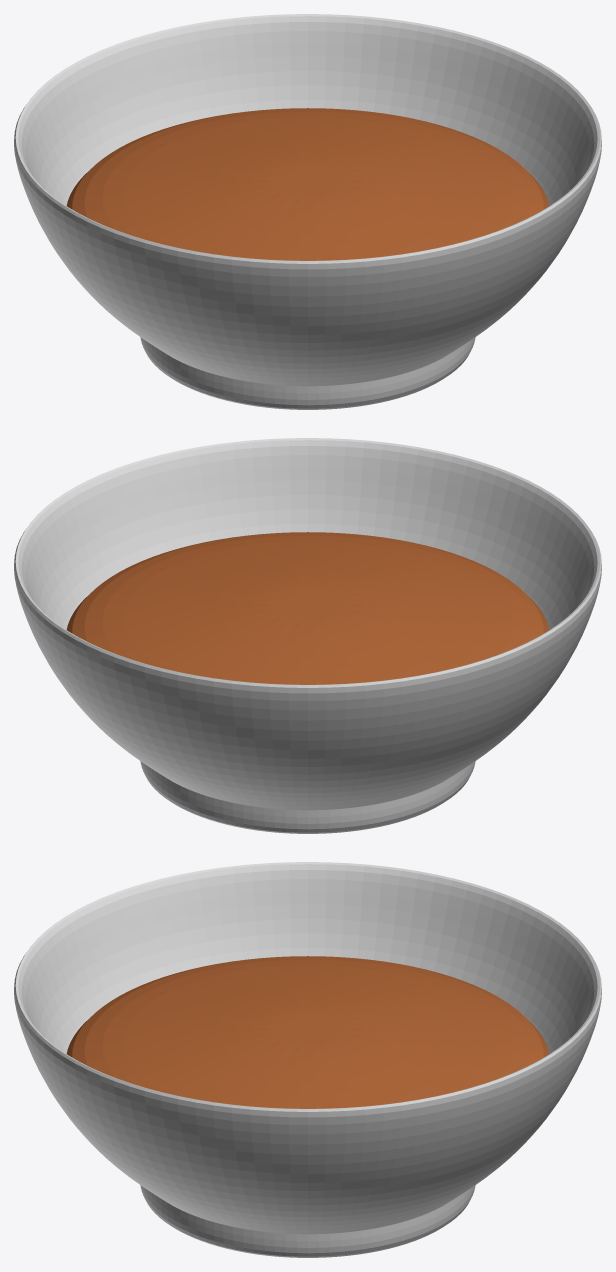
File: miso.fbx
3 renders of one model, top to bottom at view 1: azimuth 30°, elevation 25°; view 2: azimuth 150°, elevation 25°; view 3: azimuth 270°, elevation 25°, orthographic.
Parts seen in each view (by area): view 1: 구체.001; view 2: 구체.001; view 3: 구체.001.
Boxes of the visible parts, x1=… form: 구체.001: x1=14, y1=14, x2=601, y2=409; 구체.001: x1=14, y1=438, x2=601, y2=833; 구체.001: x1=14, y1=862, x2=601, y2=1257.
Bounding box in the file's own units: 191 × 73.37 × 191.
